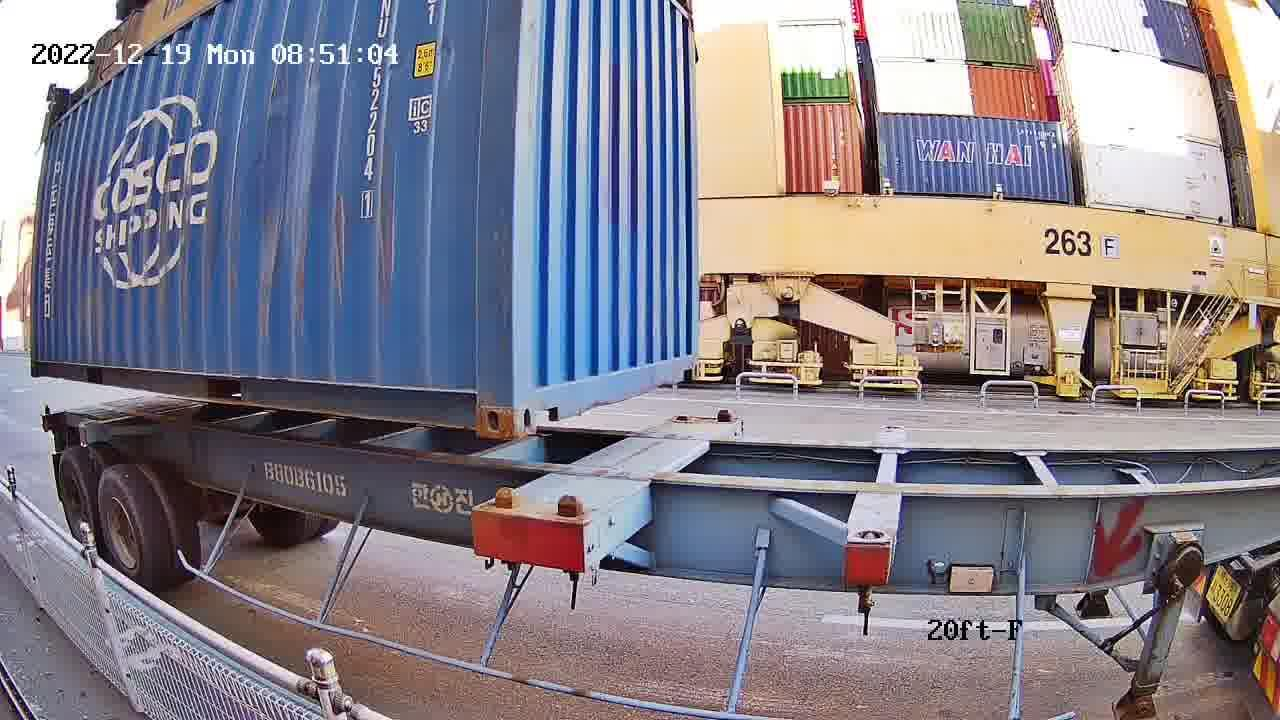Chassis: (545, 417, 742, 567), (470, 417, 696, 514)
Cone: (549, 496, 587, 571), (486, 488, 518, 561)
Hole_L: (515, 368, 561, 439)
Hole_R: (449, 371, 513, 439), (672, 343, 700, 383)
Tire: (97, 468, 153, 586), (57, 452, 100, 554)
